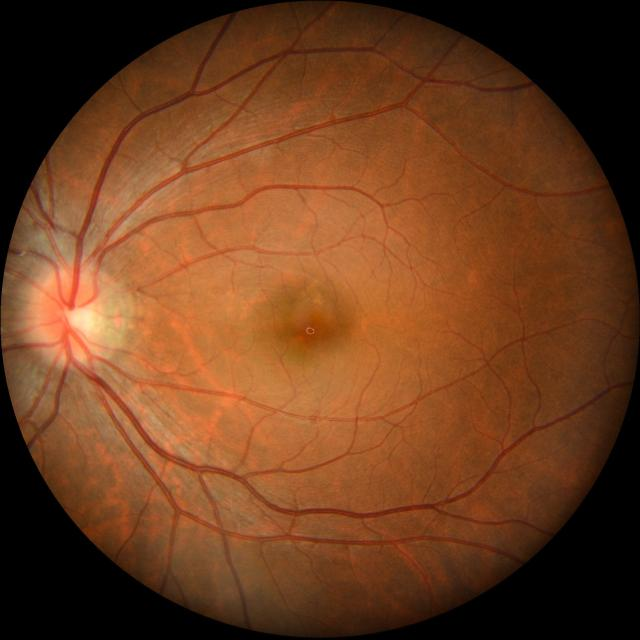OC: (63, 305, 94, 334)
OD: (37, 268, 106, 366)
